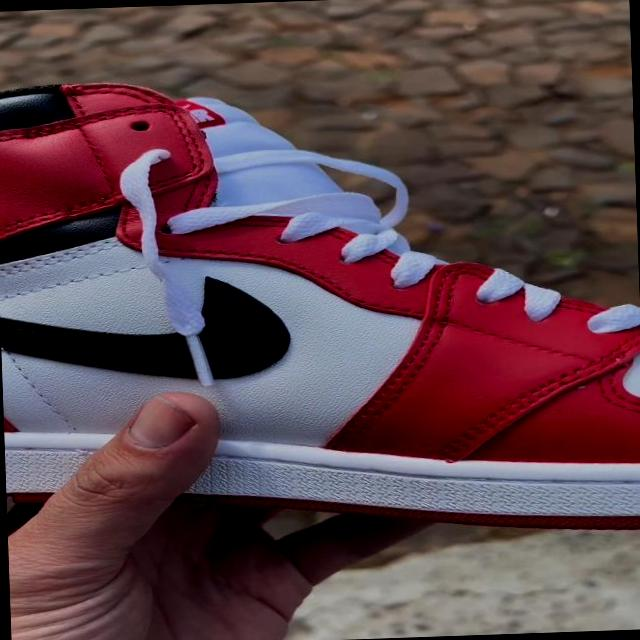nike_original_jordan: (101, 155, 640, 544)
